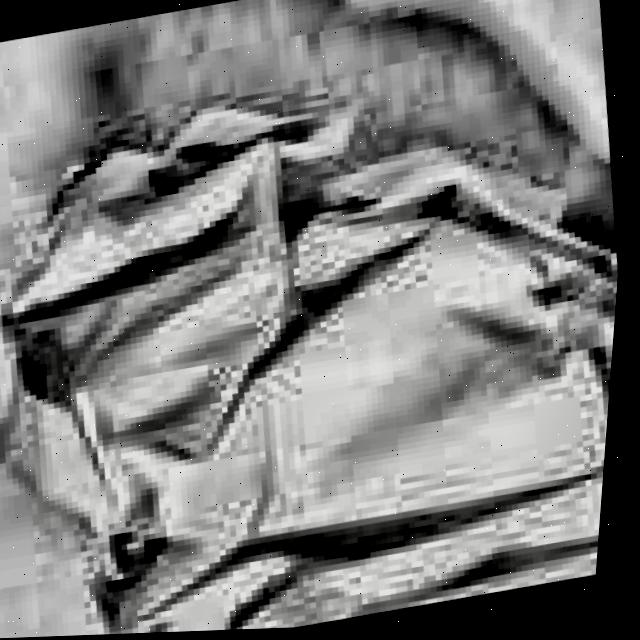paper: (0, 2, 639, 640)
